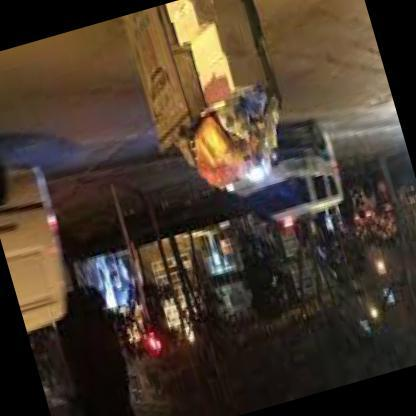Garbage: (176, 101, 286, 194)
